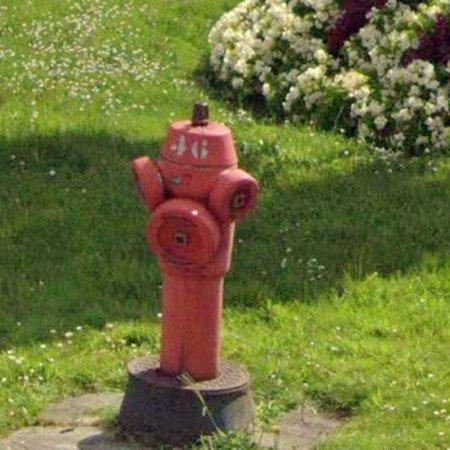a fire hydrant: (132, 104, 260, 382)
